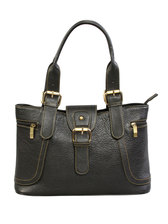bag: (6, 18, 161, 199)
